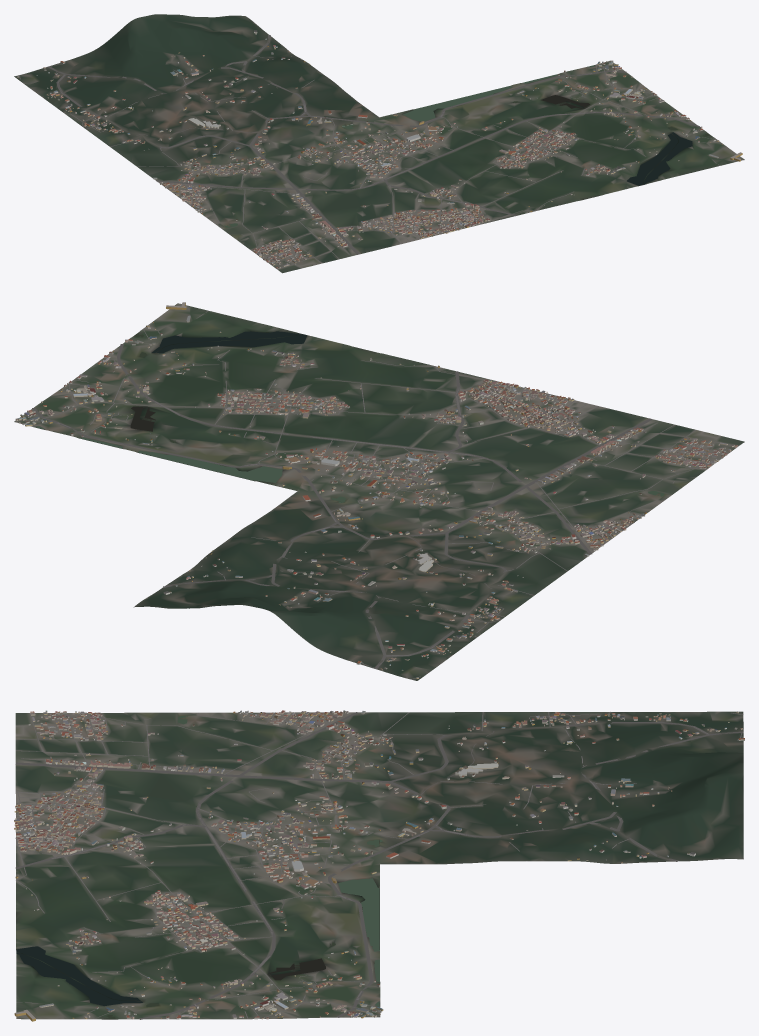
The picture shows the model from 3 angles, top to bottom: view 1: azimuth 30°, elevation 25°; view 2: azimuth 150°, elevation 25°; view 3: azimuth 270°, elevation 25°; orthographic projection. The views are drawn at different scales.
Parts seen in each view (by area): view 1: ground, buildings, roads, water; view 2: ground, buildings, roads, water; view 3: ground, buildings, roads, water.
Part boxes in pixels (bbox=[...]): ground: bbox=[14, 14, 744, 273]; buildings: bbox=[17, 30, 742, 268]; roads: bbox=[19, 35, 719, 269]; water: bbox=[224, 65, 711, 227]; ground: bbox=[14, 303, 744, 680]; buildings: bbox=[15, 302, 737, 678]; roads: bbox=[32, 310, 738, 679]; water: bbox=[34, 331, 664, 502]; ground: bbox=[15, 711, 743, 1019]; buildings: bbox=[14, 710, 744, 1021]; roads: bbox=[15, 712, 743, 1019]; water: bbox=[16, 716, 382, 1019].
Size of the model in its own units: 2827 by 172 by 2816.
